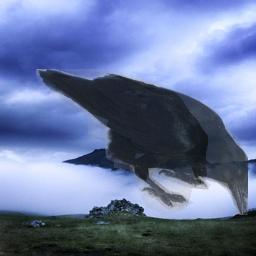Crow: (36, 69, 248, 215)
